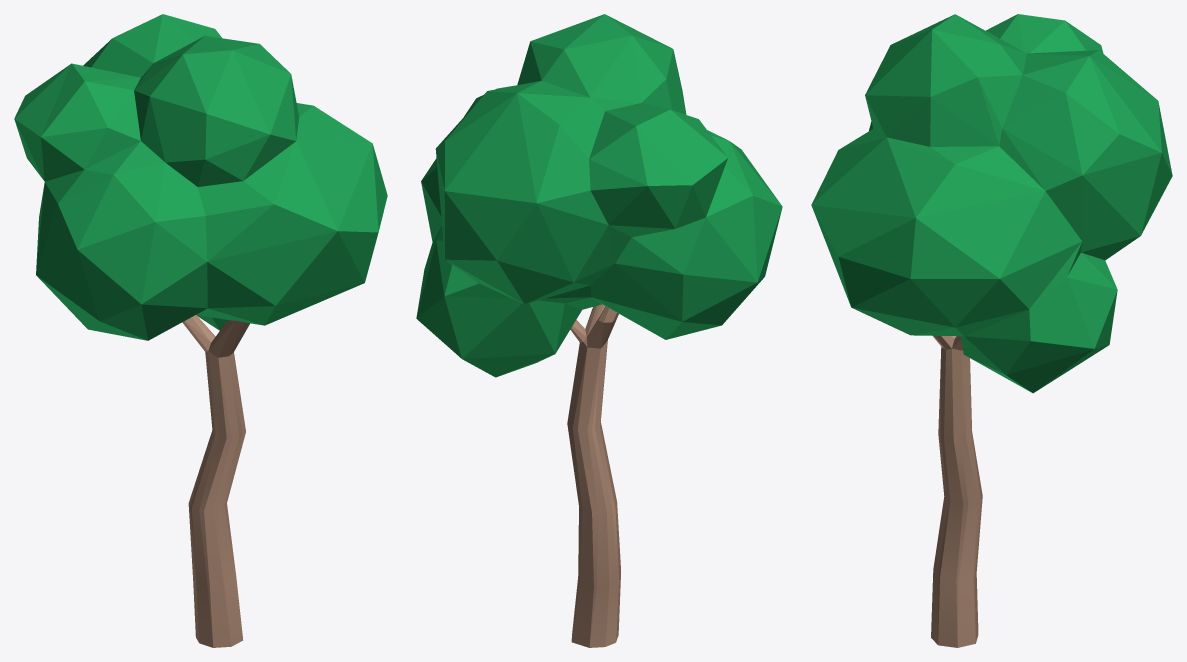
File: treeCustom1.fbx
3 renders of one model, left to right at view 1: azimuth 30°, elevation 25°; view 2: azimuth 150°, elevation 25°; view 3: azimuth 270°, elevation 25°, orthographic. The views are drawn at different scales.
Parts seen in each view (by area): view 1: treetype1; view 2: treetype1; view 3: treetype1.
Part boxes in pixels (x1=…): treetype1: x1=14, y1=14, x2=387, y2=647; treetype1: x1=416, y1=14, x2=782, y2=647; treetype1: x1=811, y1=14, x2=1172, y2=647.
Size of the model in its own units: 108 by 193 by 104.
